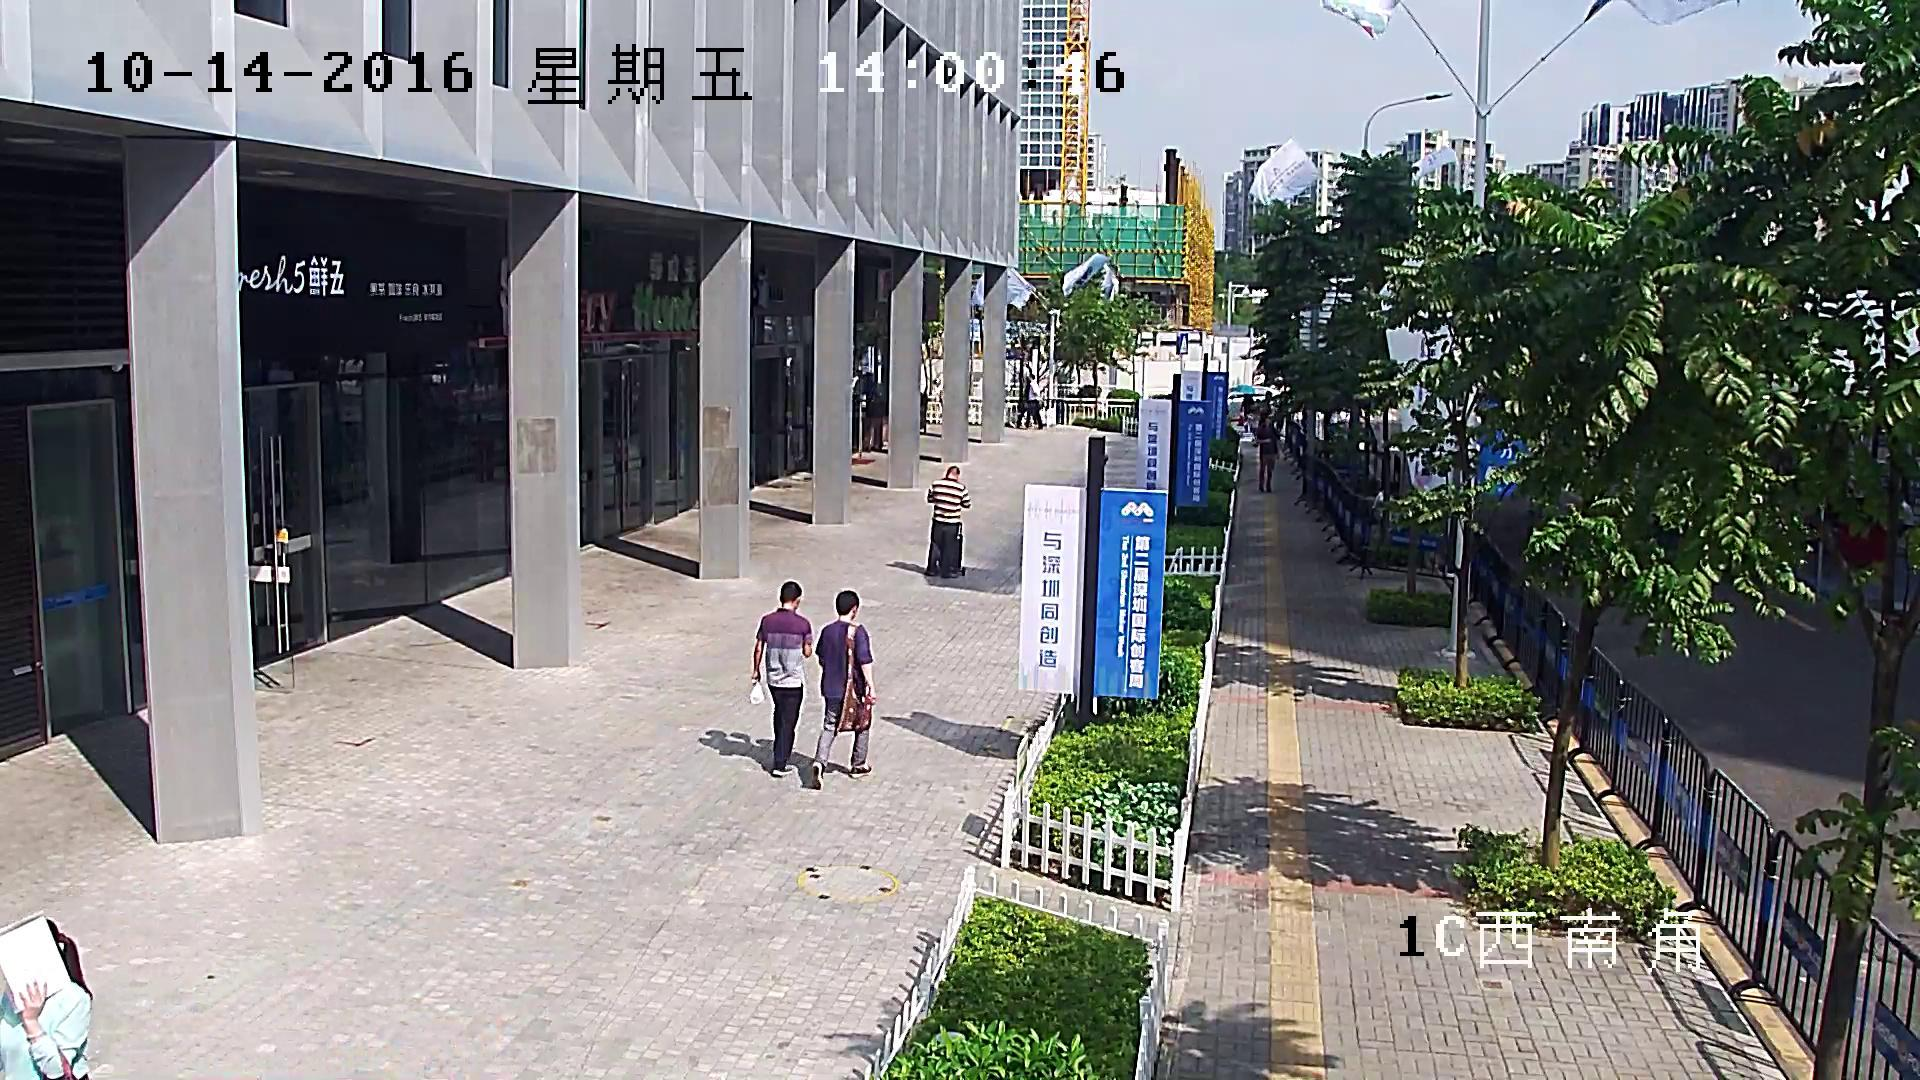person: (0, 913, 92, 1080), (808, 590, 874, 791), (747, 580, 811, 778), (924, 465, 971, 578), (1253, 416, 1278, 493), (1024, 373, 1043, 431), (1231, 385, 1254, 431), (1239, 393, 1253, 431), (1254, 390, 1274, 416)
